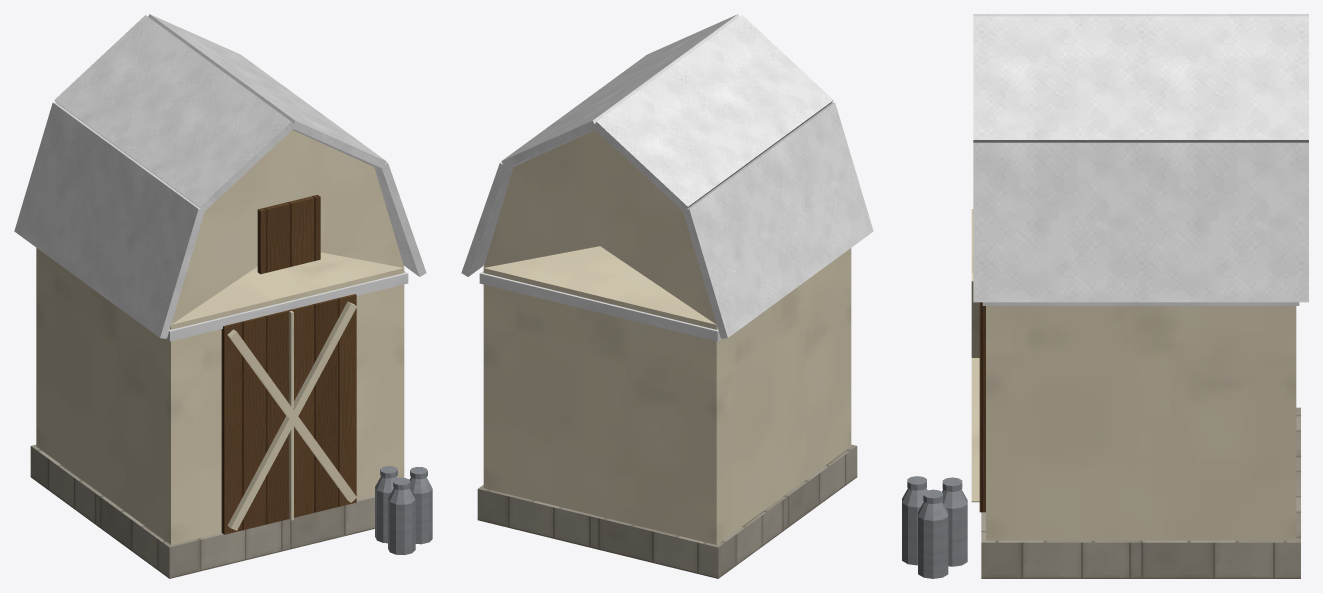
Rendered from protocol.cow.glb.
The picture shows the model from 3 angles, left to right: view 1: azimuth 30°, elevation 25°; view 2: azimuth 150°, elevation 25°; view 3: azimuth 270°, elevation 25°; orthographic projection. The views are drawn at different scales.
Visible parts, largest first — view 1: building.protocol.cow; view 2: building.protocol.cow; view 3: building.protocol.cow.
Boxes of the visible parts, x1,y1,x2,y2 form: building.protocol.cow: (14,14,432,578); building.protocol.cow: (461,14,873,578); building.protocol.cow: (902,14,1308,578).
Bounding box in the file's own units: 2.22 × 3.43 × 2.55.
6 materials, 6 textured.
